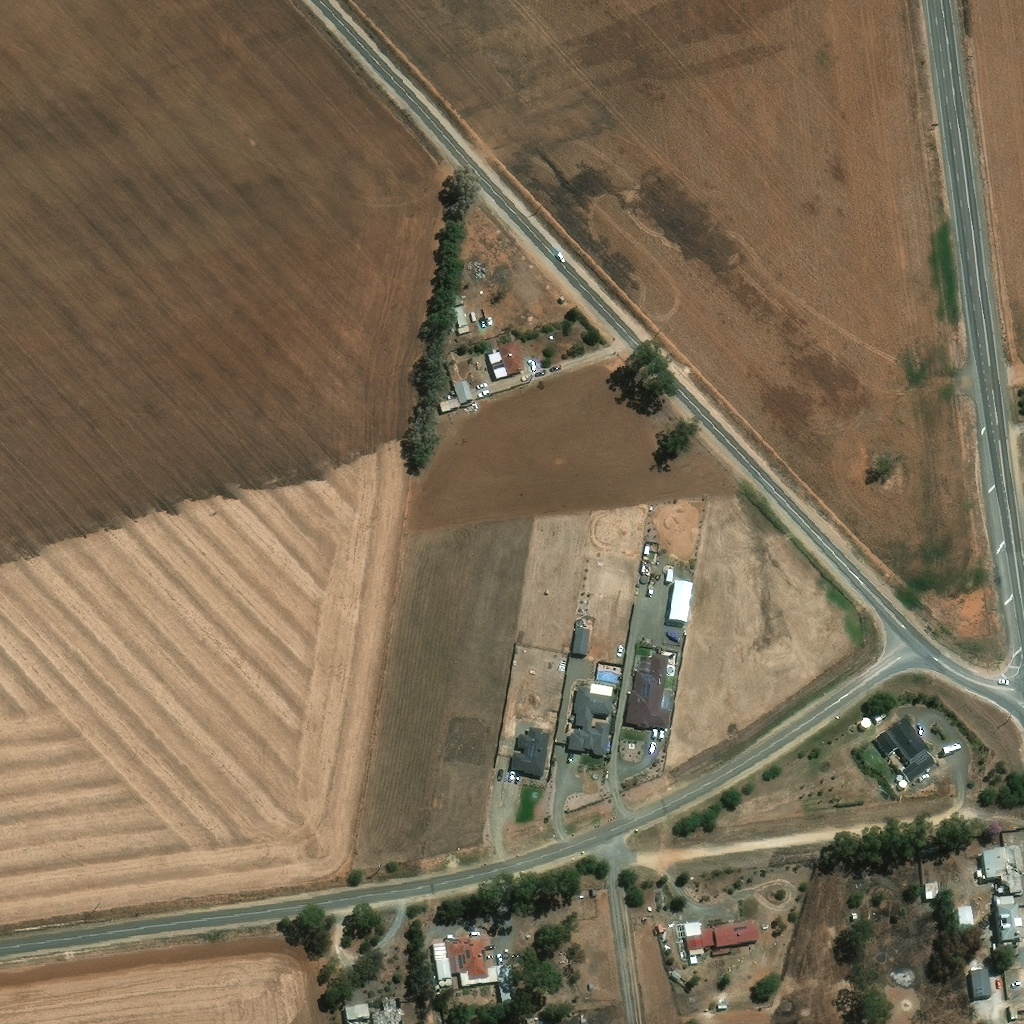0 no-damage: (875, 716, 938, 784), (433, 929, 500, 985), (624, 655, 674, 729), (567, 683, 616, 757), (685, 918, 760, 963), (977, 844, 1023, 897), (510, 727, 551, 777), (488, 340, 528, 379), (995, 897, 1023, 949), (668, 579, 694, 626), (440, 381, 476, 413), (498, 963, 518, 1006), (1004, 968, 1023, 1012), (971, 965, 993, 999), (958, 905, 976, 934), (918, 766, 941, 785), (926, 883, 939, 899), (861, 718, 872, 730), (672, 968, 684, 978), (458, 324, 471, 333), (899, 780, 909, 789), (897, 775, 904, 781), (488, 948, 495, 954), (853, 911, 859, 917)
2 major-damage: (345, 992, 406, 1023), (571, 628, 592, 656)
3 destroyed: (575, 618, 584, 626)
4 un-classified: (581, 1015, 588, 1022)
